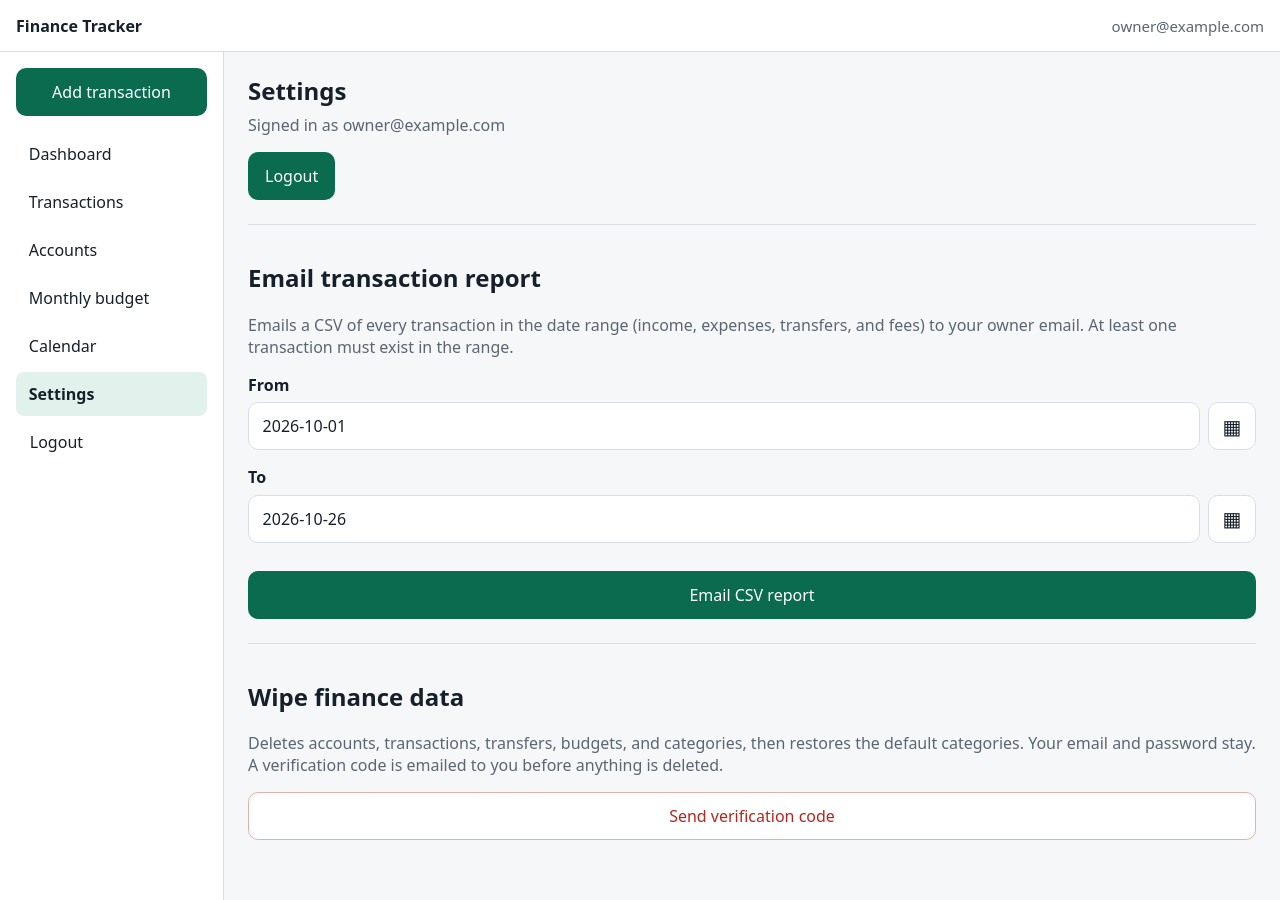
Scenario: settings data wipe › shows an API error when the code cannot be sent
This screenshot has width=1280, height=900.
Click the button "Send verification code" at [752, 816], box left=248, top=792, right=1256, bottom=840
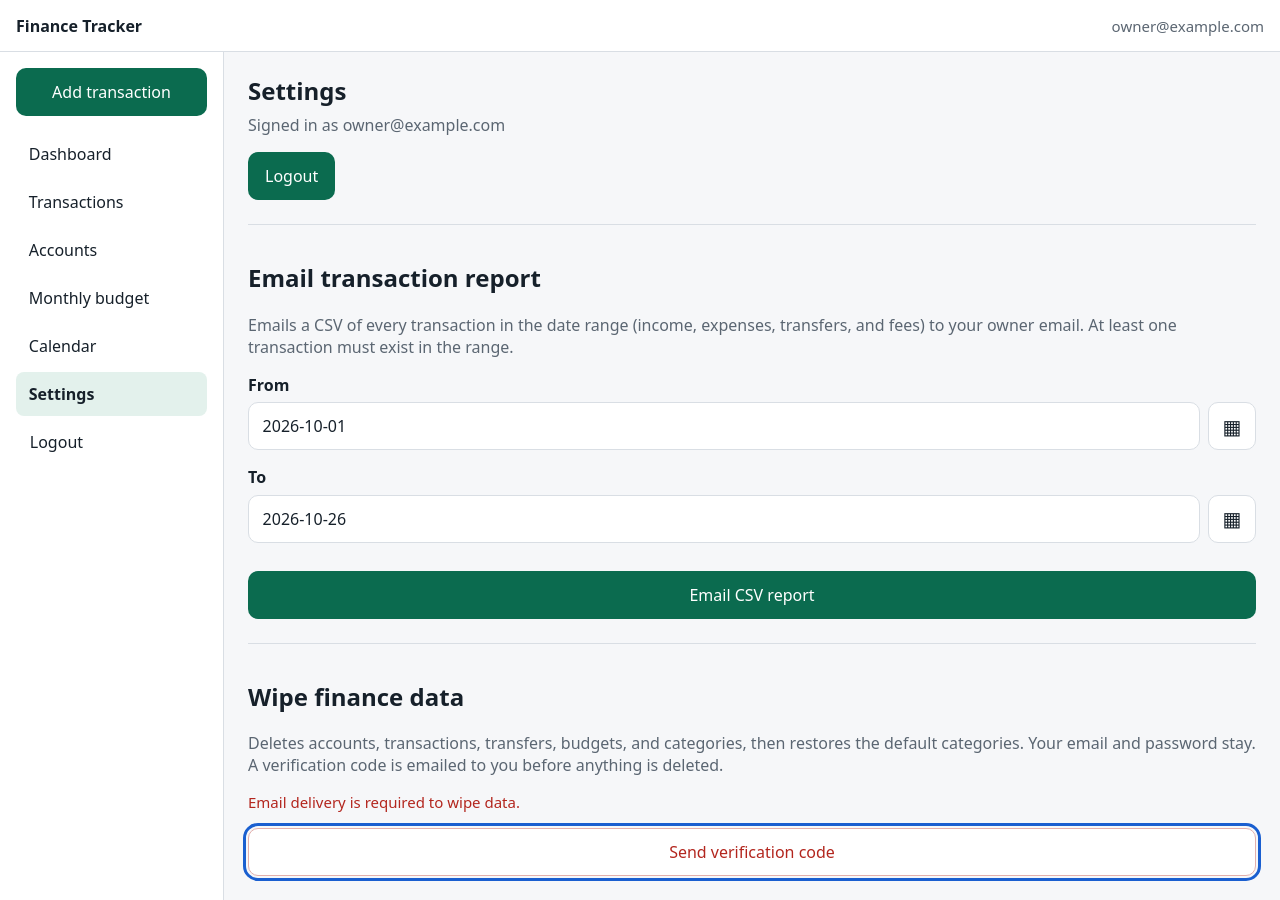
Now the text "Email delivery is required to wipe data." is shown, box left=248, top=792, right=520, bottom=812
